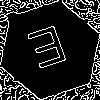E: (25, 25, 73, 79)
